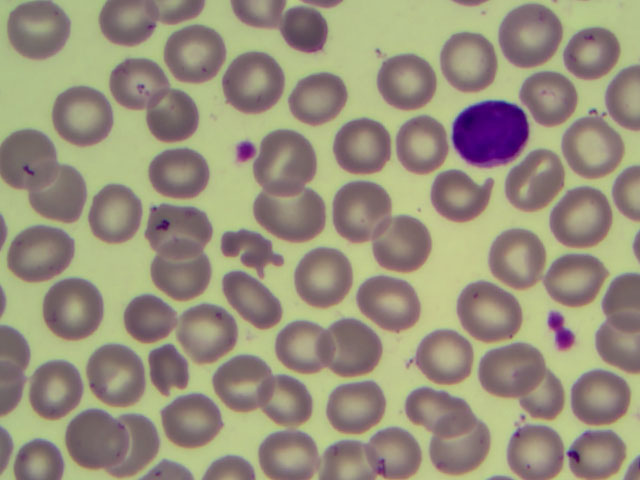Platelets: (540, 312, 577, 353), (233, 134, 258, 167)
RBC: (4, 2, 69, 63), (90, 2, 155, 63), (100, 52, 165, 113), (139, 90, 204, 151), (51, 85, 116, 146), (1, 127, 66, 188), (26, 165, 91, 226), (4, 227, 69, 288), (41, 277, 106, 338), (151, 196, 216, 257), (94, 188, 159, 249), (151, 142, 216, 203), (211, 51, 276, 112), (159, 18, 224, 79), (273, 5, 338, 66), (288, 66, 353, 127), (251, 129, 316, 190), (251, 187, 316, 248), (321, 177, 386, 238), (325, 118, 390, 179), (380, 106, 445, 167), (373, 47, 438, 108), (429, 30, 494, 91), (506, 3, 571, 64), (554, 15, 619, 76), (521, 60, 586, 121), (554, 112, 619, 173), (509, 153, 574, 214), (553, 187, 618, 248), (482, 233, 547, 294), (540, 241, 605, 302), (456, 278, 521, 339), (435, 161, 500, 222), (370, 214, 435, 275), (297, 249, 362, 310), (349, 275, 414, 336), (326, 318, 391, 379), (275, 320, 340, 381), (208, 272, 273, 333), (226, 222, 291, 283), (190, 303, 255, 364), (123, 293, 188, 354), (144, 236, 209, 297), (147, 195, 212, 256), (85, 346, 150, 407), (37, 358, 102, 419), (61, 409, 126, 470), (95, 412, 160, 473), (156, 393, 221, 454), (200, 362, 265, 423), (249, 369, 314, 430), (257, 413, 322, 474), (333, 374, 398, 435), (365, 419, 430, 480), (400, 384, 465, 445), (435, 415, 500, 476), (419, 330, 484, 391), (471, 334, 536, 395), (504, 364, 569, 425), (575, 368, 640, 429), (565, 419, 630, 480), (493, 419, 558, 480), (594, 296, 640, 362)
WBC: (453, 95, 528, 171)
